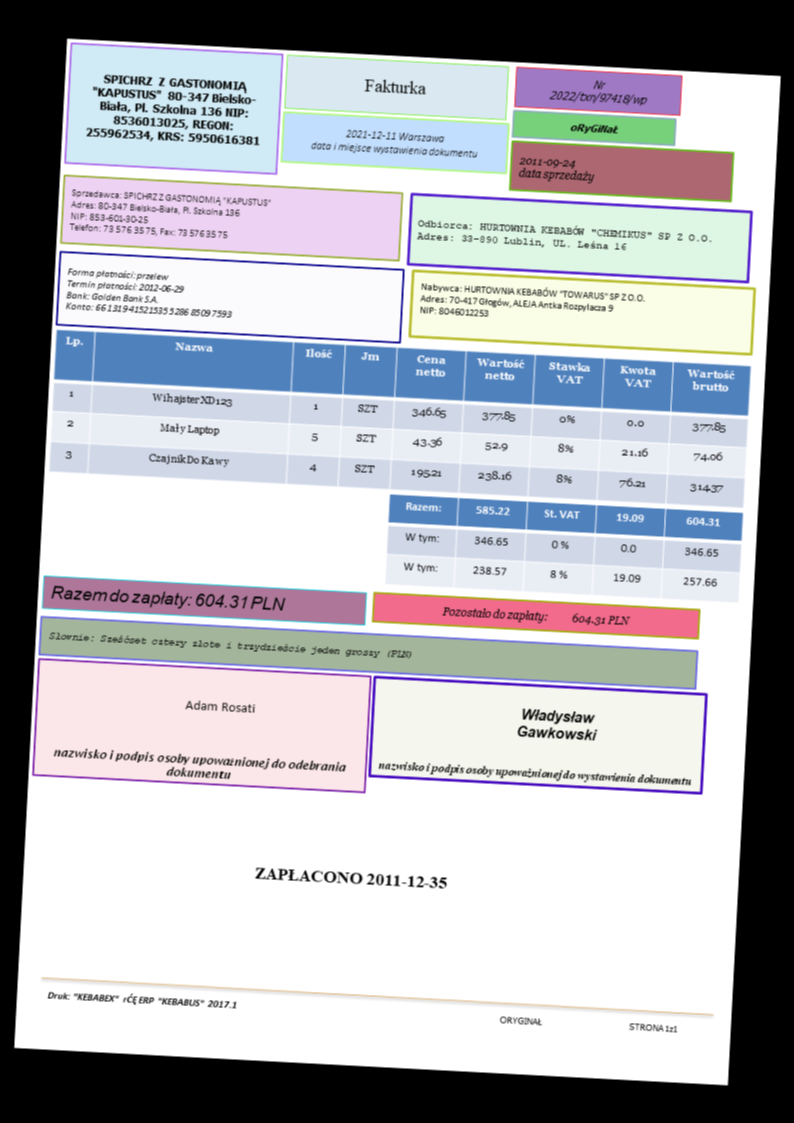Table: (47, 329, 751, 509), (384, 493, 743, 603)
TextBox: (82, 71, 265, 147), (415, 215, 714, 258), (49, 744, 347, 786), (46, 628, 415, 661), (67, 186, 273, 243), (416, 280, 647, 327), (375, 757, 693, 790), (63, 265, 235, 320), (46, 582, 290, 616), (306, 125, 480, 161), (251, 863, 451, 892), (438, 603, 631, 629), (44, 988, 239, 1011), (544, 74, 649, 109), (515, 703, 599, 743), (515, 155, 597, 186), (361, 76, 428, 98), (181, 698, 256, 715), (566, 119, 620, 137), (626, 1021, 678, 1035), (496, 1013, 543, 1027)
